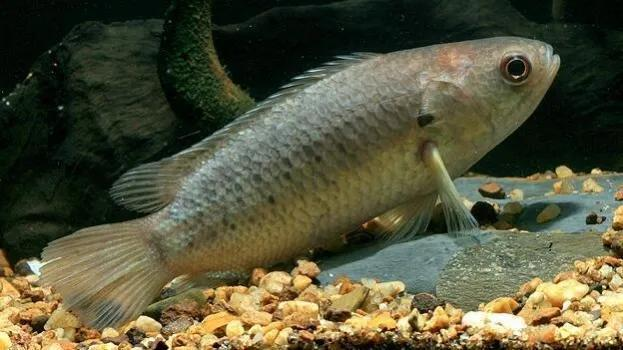Climbing Perch: (36, 29, 562, 335)
